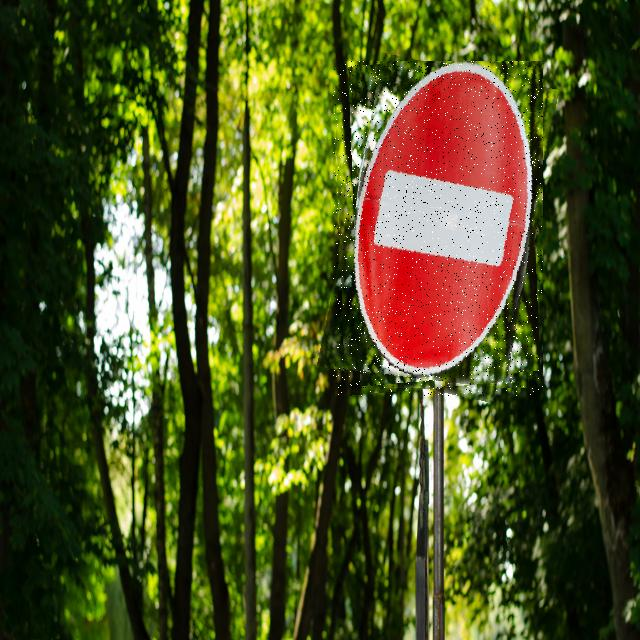no entry: (333, 61, 543, 396)
